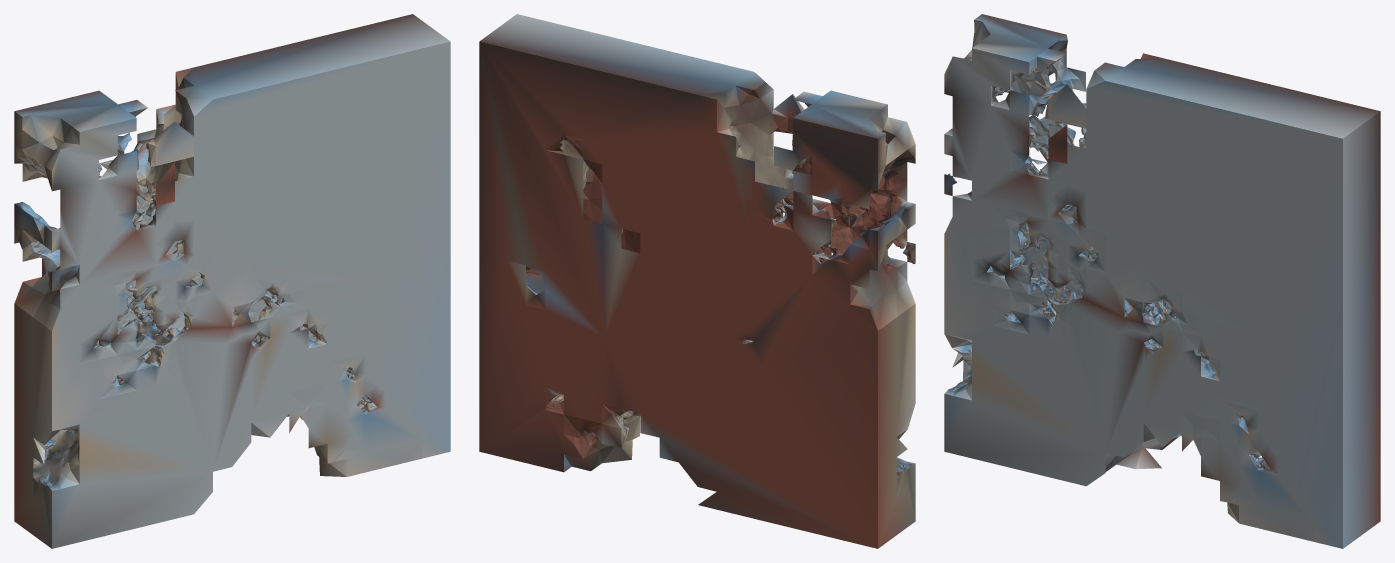
Rendered from Floor01.glb.
The picture shows the model from 3 angles, left to right: view 1: azimuth 30°, elevation 25°; view 2: azimuth 150°, elevation 25°; view 3: azimuth 330°, elevation 25°; orthographic projection.
Parts seen in each view (by area): view 1: node_0; view 2: node_0; view 3: node_0.
Boxes of the visible parts, bbox=[...] form: node_0: bbox=[14, 14, 450, 548]; node_0: bbox=[479, 14, 915, 548]; node_0: bbox=[944, 14, 1380, 548].
Size of the model in its own units: 58.52 by 57.48 by 9.62.
